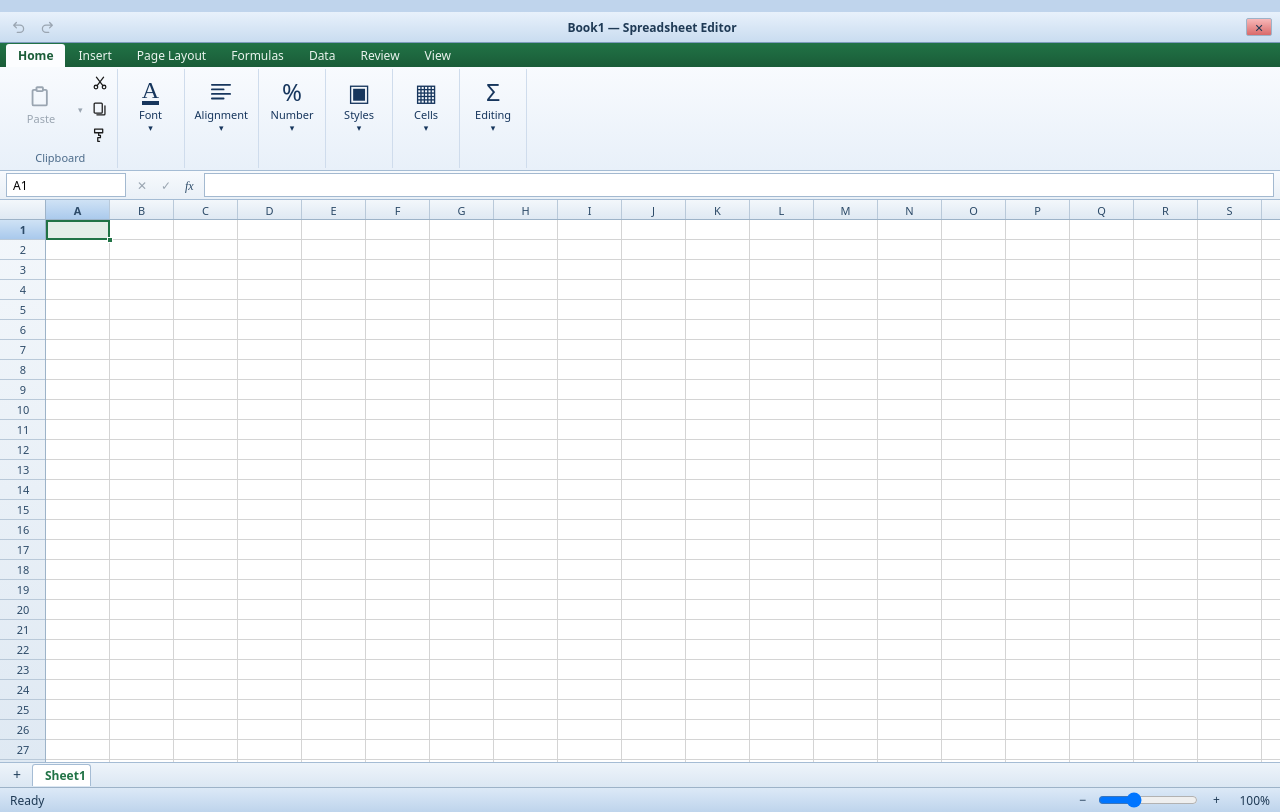
SpreadsheetShell › deletes the sheet whose × was clicked, not the active one
Click the button named "Insert Worksheet". click: (17, 775)
box: [6,765,28,785]
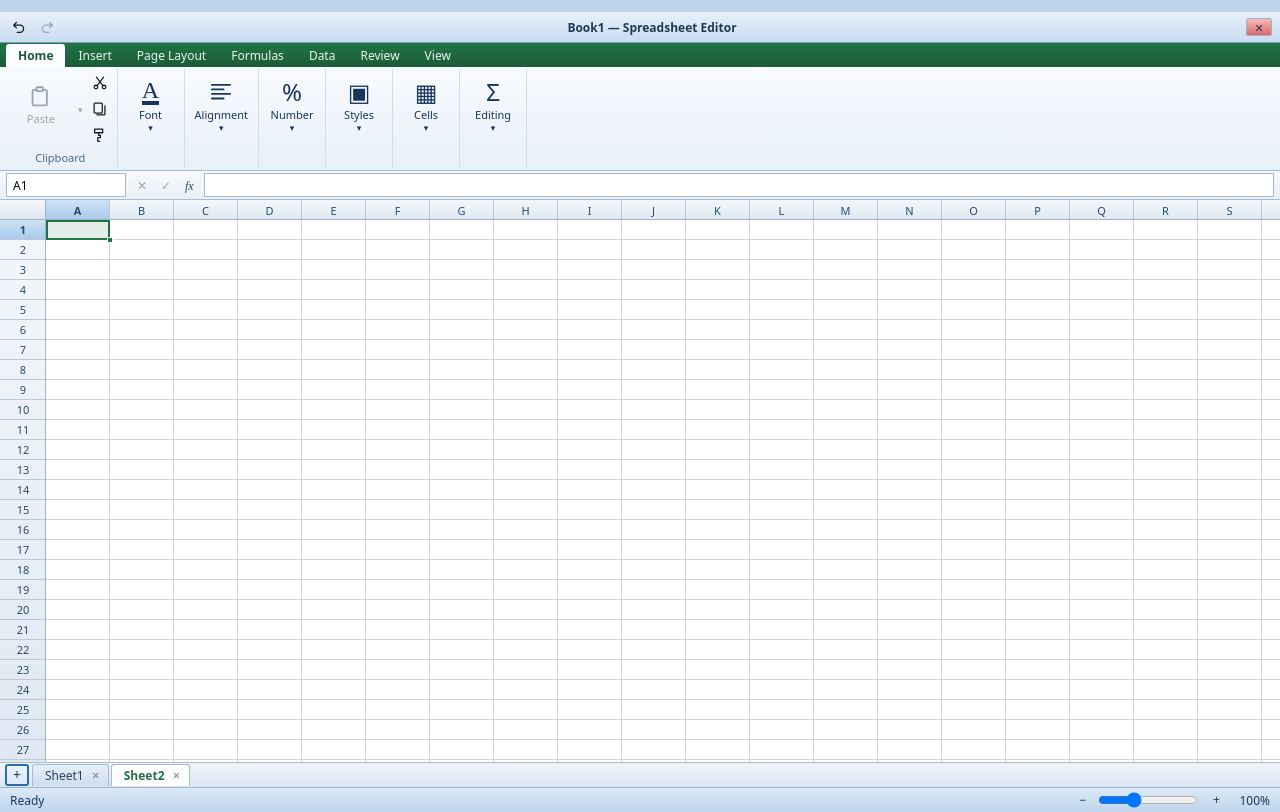
Click the button named "Insert Worksheet". click: (17, 775)
box: [6,765,28,785]
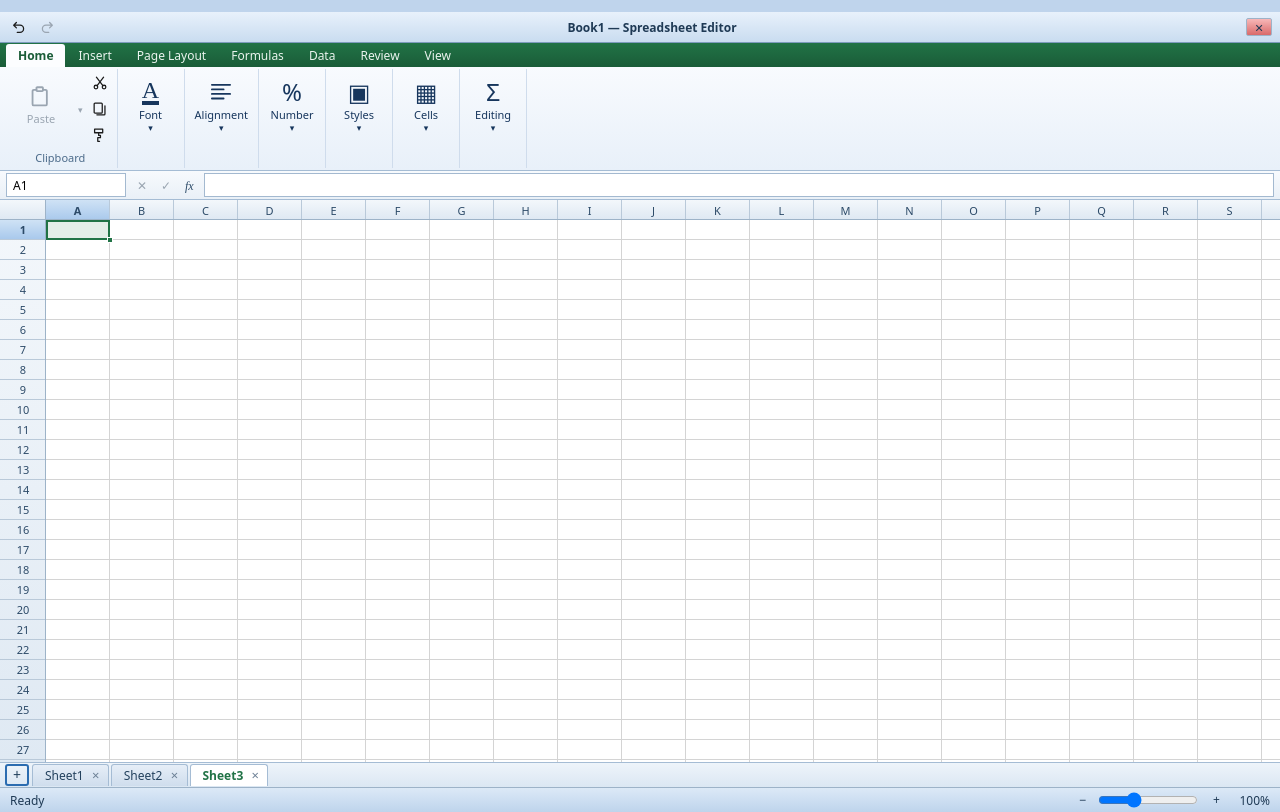
Click the button named "Delete Sheet1". click: (96, 776)
box: [88,768,104,784]
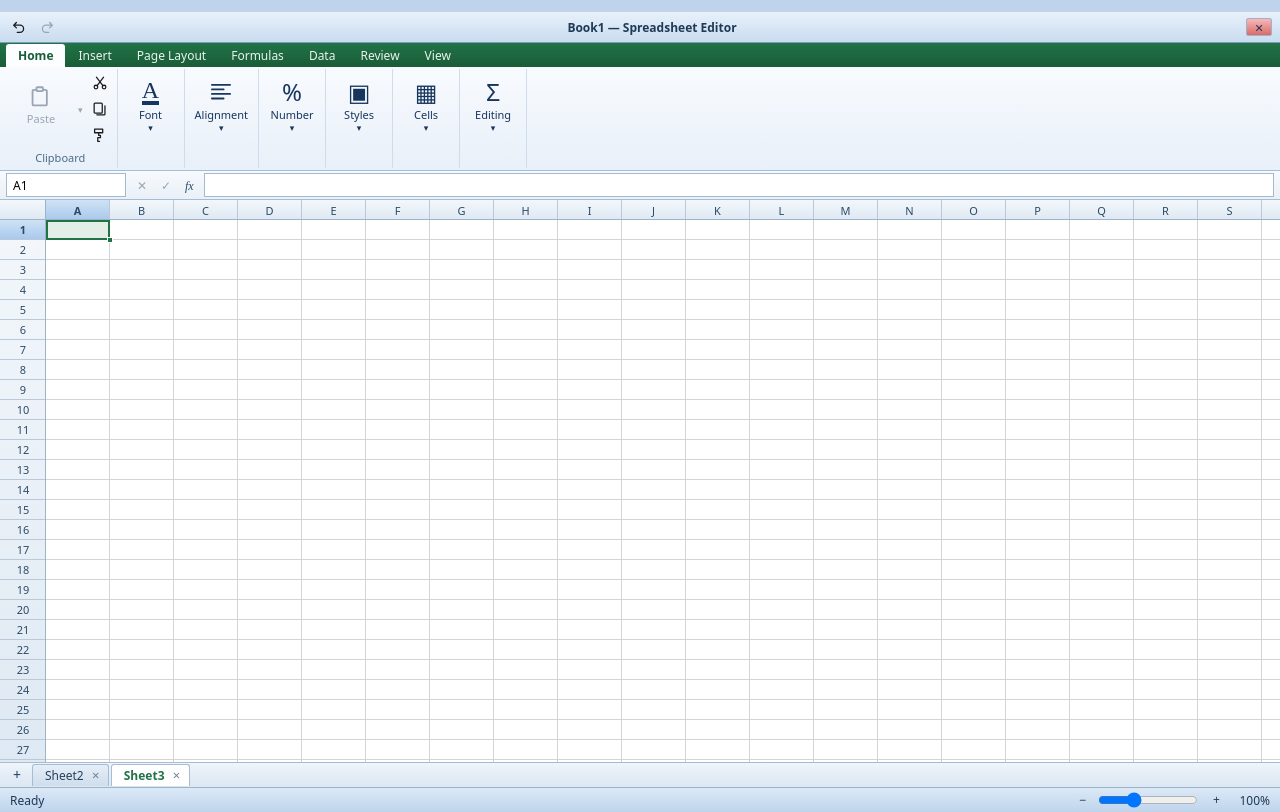
Now the tab "Sheet2" is shown, box [33,765,88,786]
Now the tab "Sheet1" is gone
